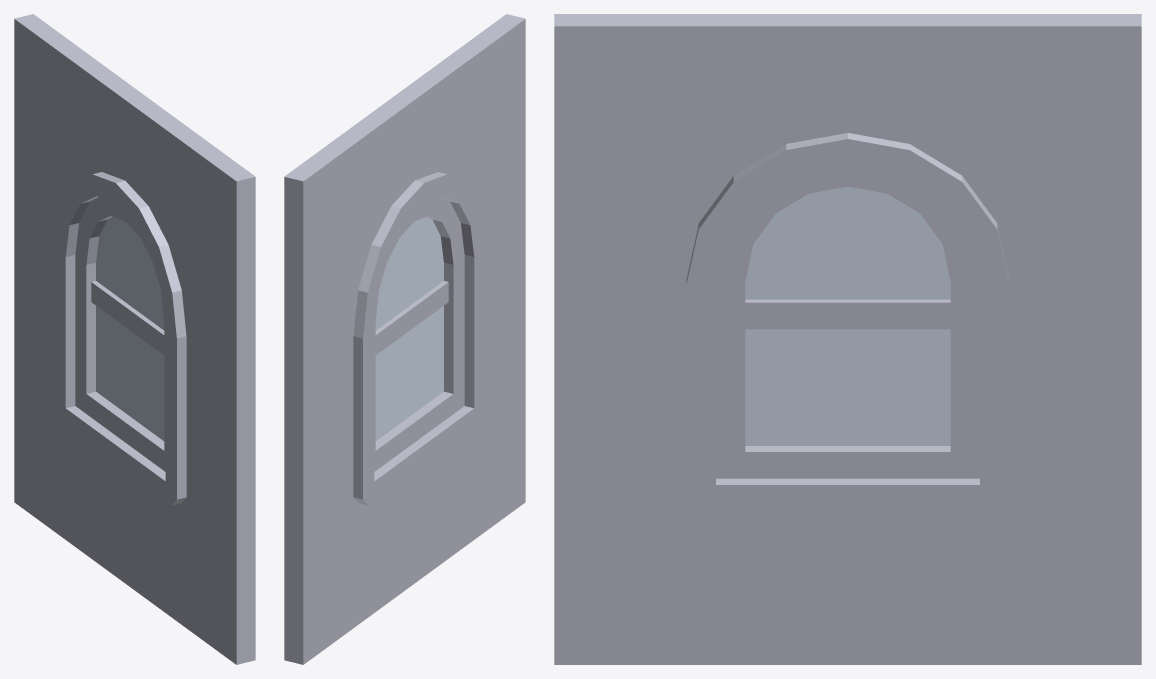
Rendered from wall-window-round-detailed.obj.
3 views of the same model, side by side, from view 1: azimuth 30°, elevation 25°; view 2: azimuth 150°, elevation 25°; view 3: azimuth 270°, elevation 25° (orthographic). The views are drawn at different scales.
Size of the model in its own units: 0.2 by 2.4 by 2.
